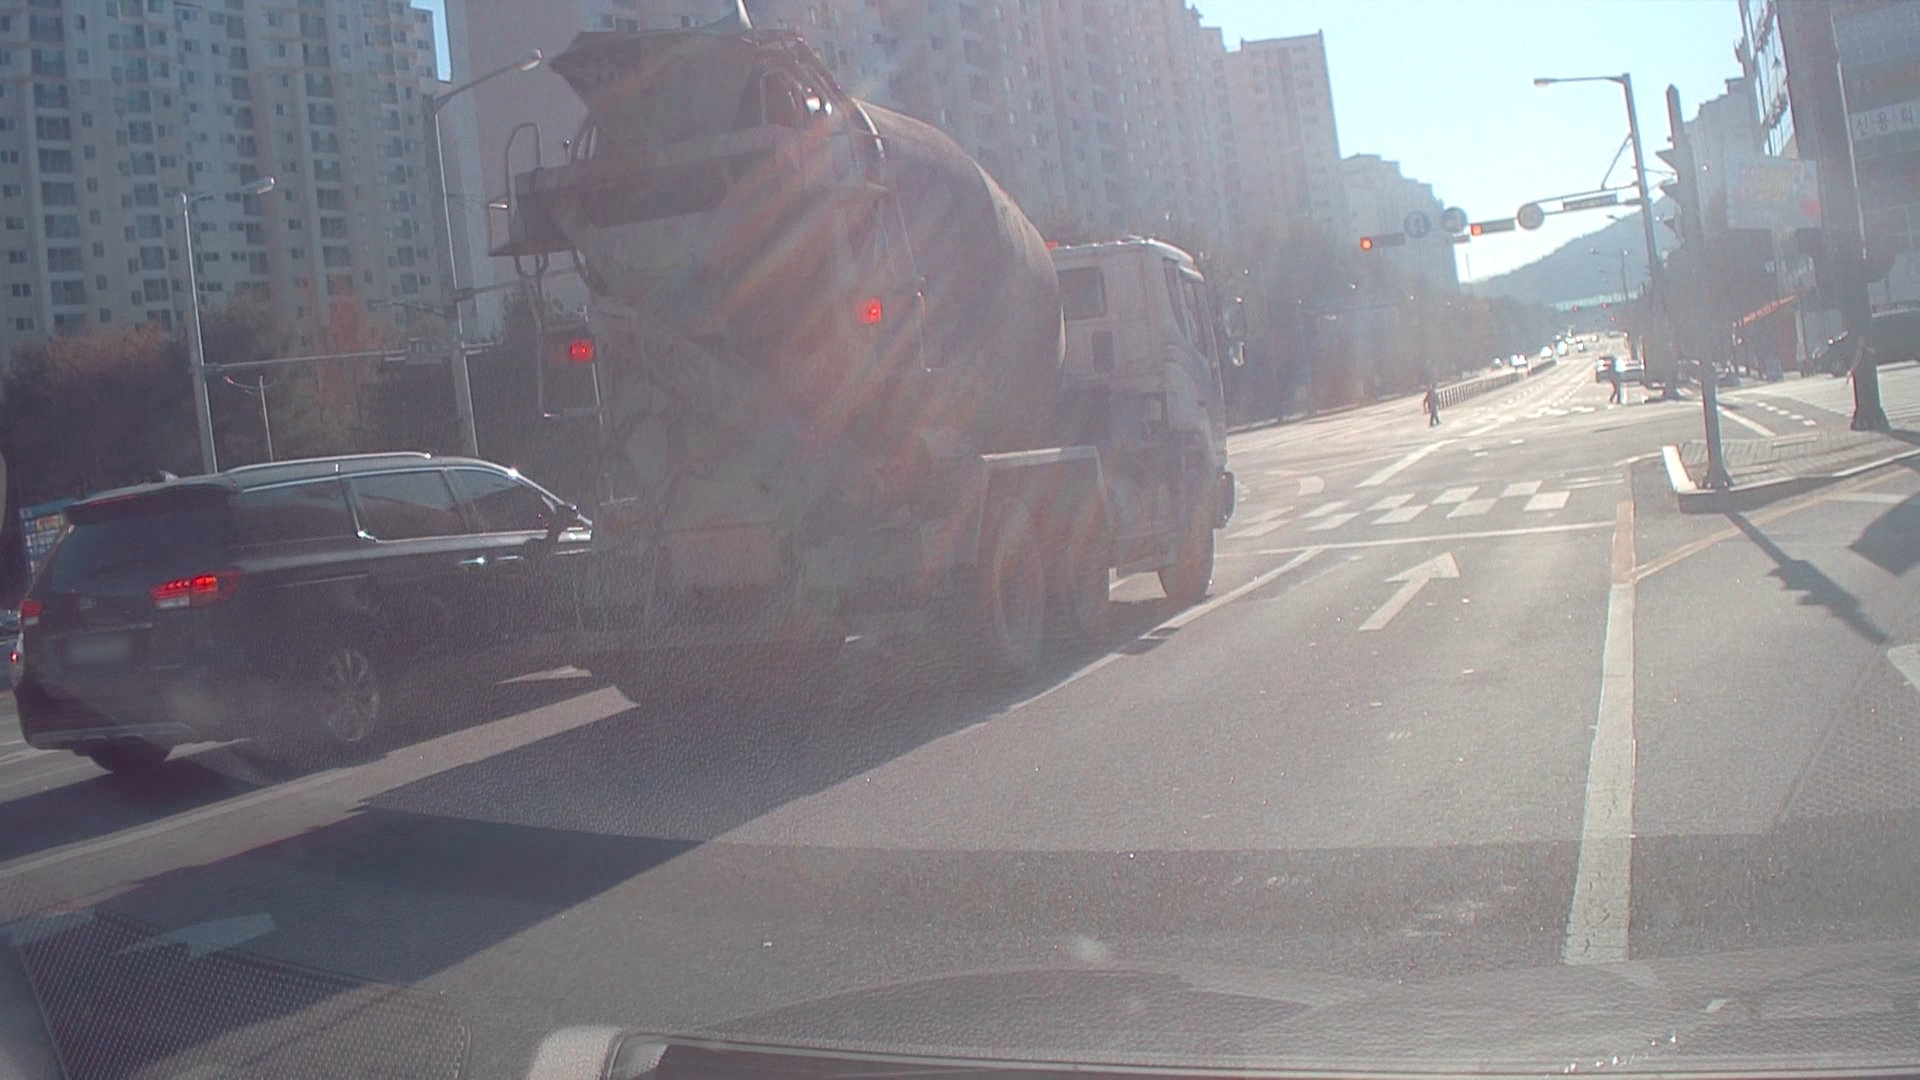trafficLight: (1360, 232, 1399, 249), (1476, 218, 1506, 236)
trafficSignCircle: (1443, 206, 1469, 240), (1404, 206, 1429, 237), (1519, 202, 1543, 235)
